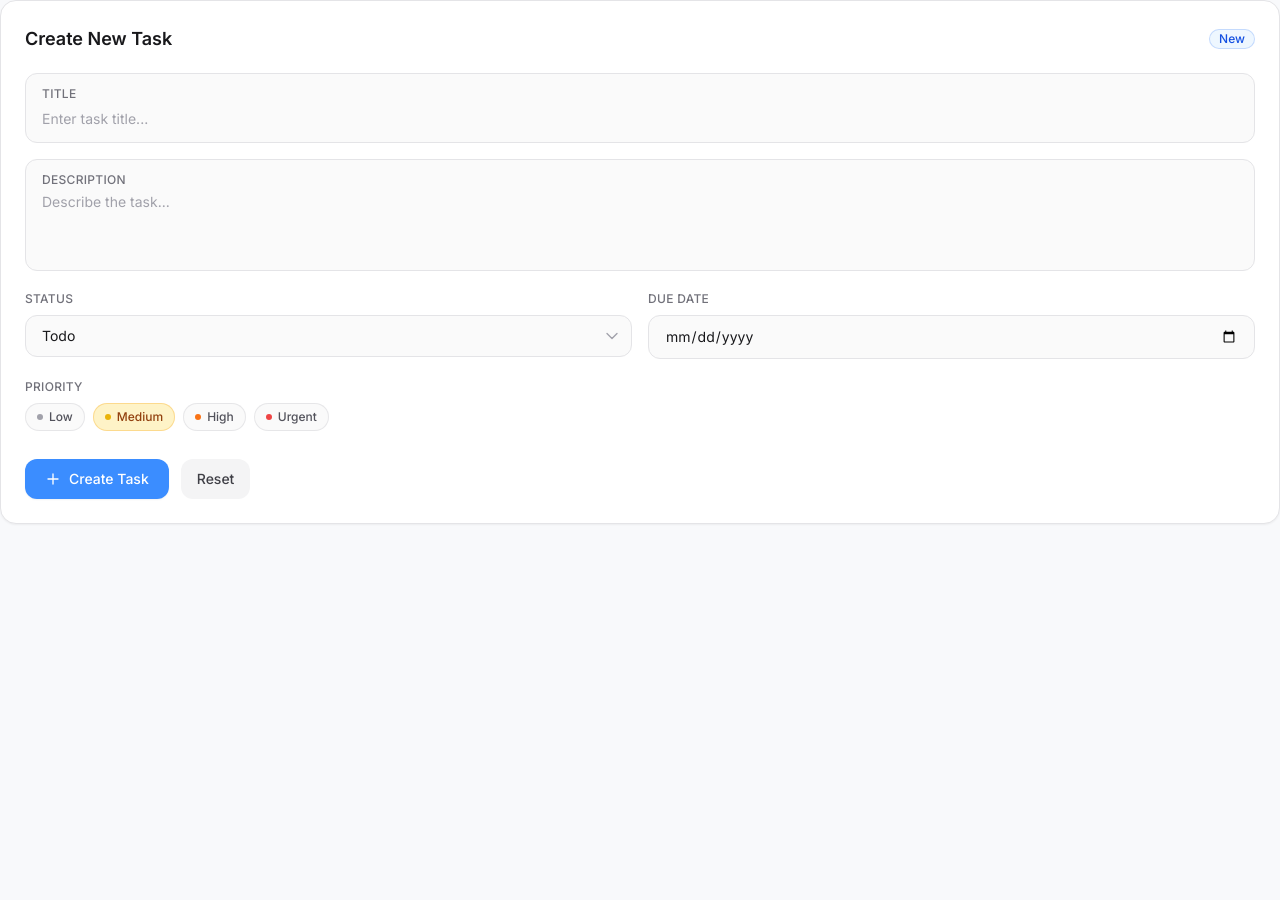
Test: TaskForm Component › shows error when description is empty
Type "Valid Title" into the field labelled "Title" at (640, 119), box [42,109,1238,129]
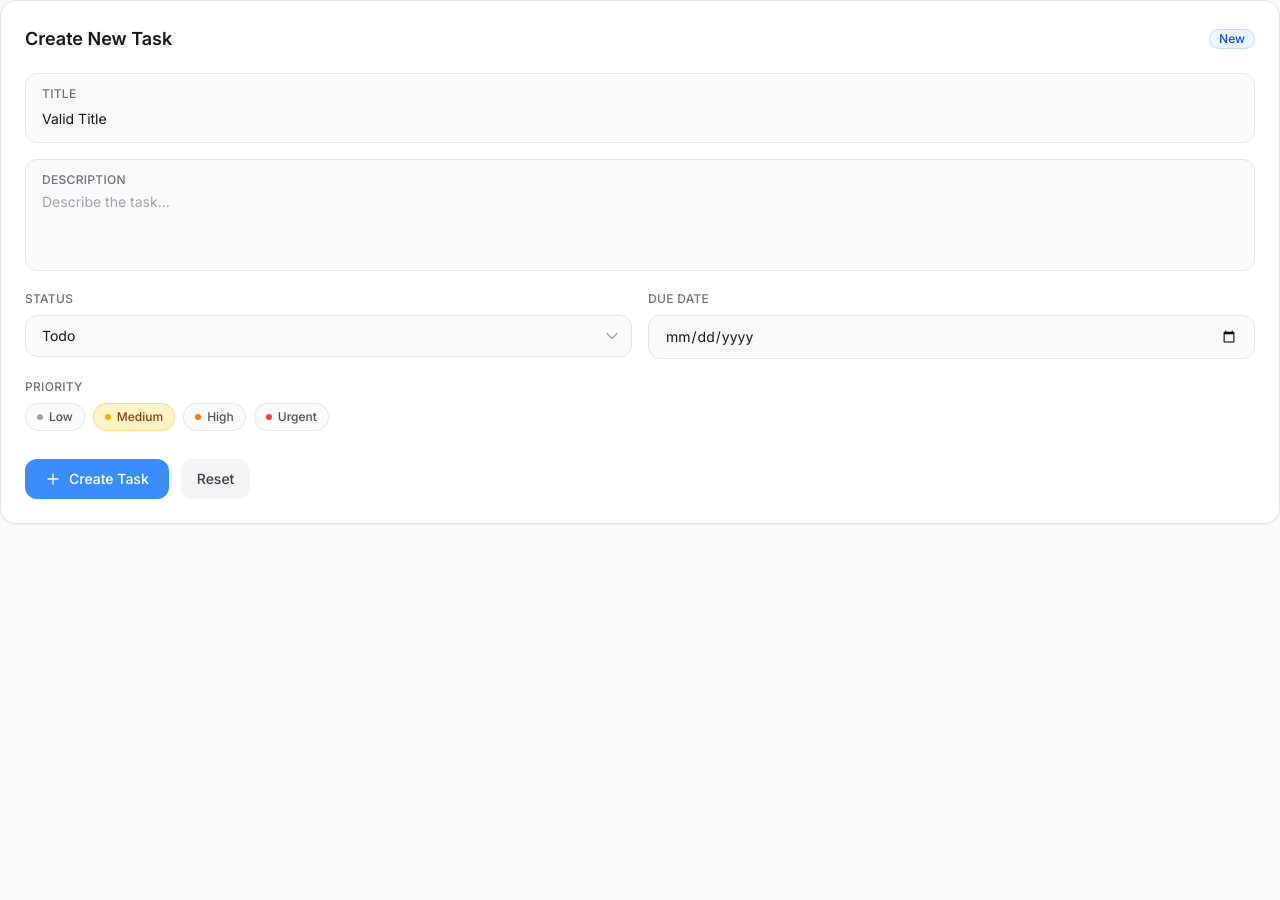
Leave the text box labelled "Description", box [42,192,1238,252]
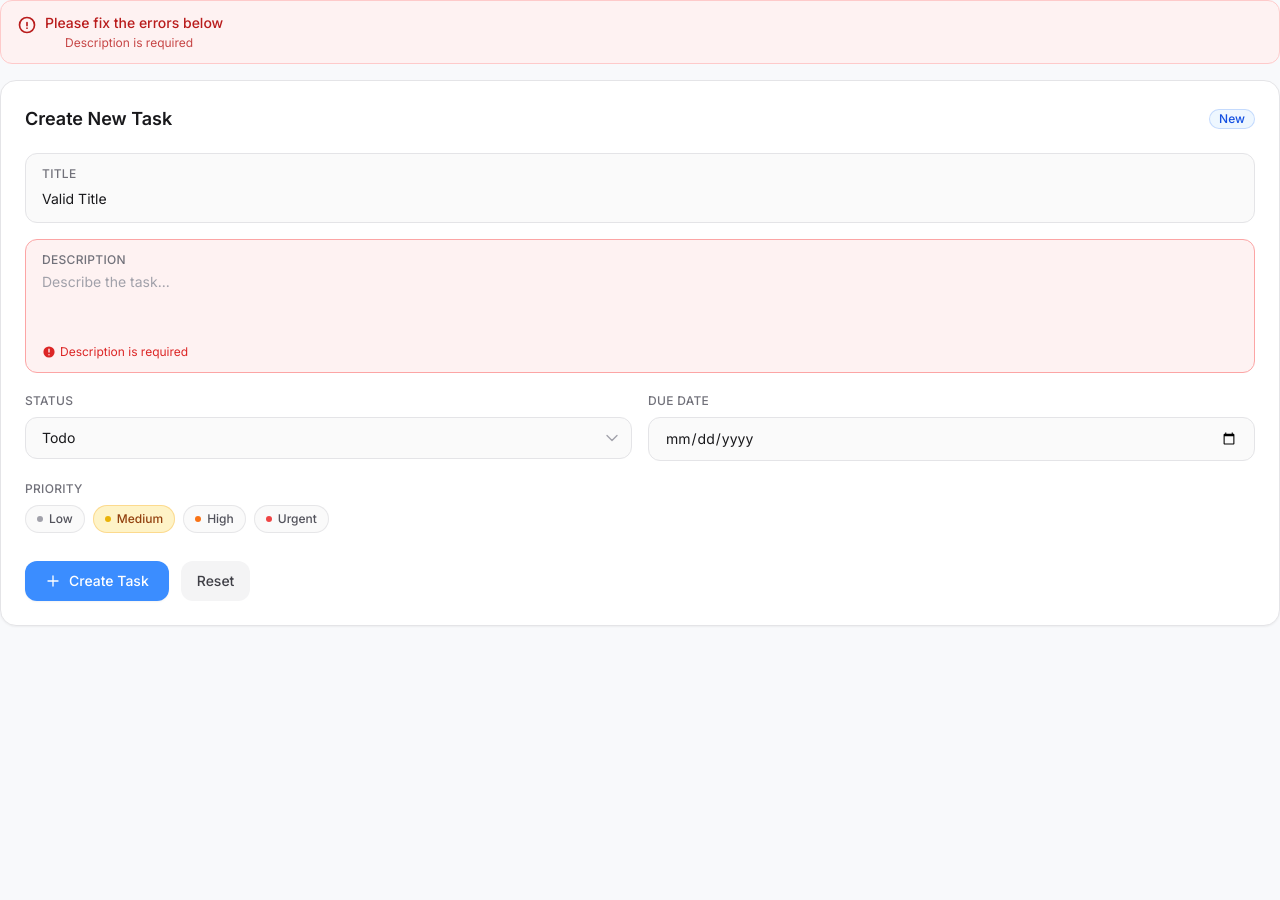
Check: the text "Description is required" is shown, box [65,35,193,50]
